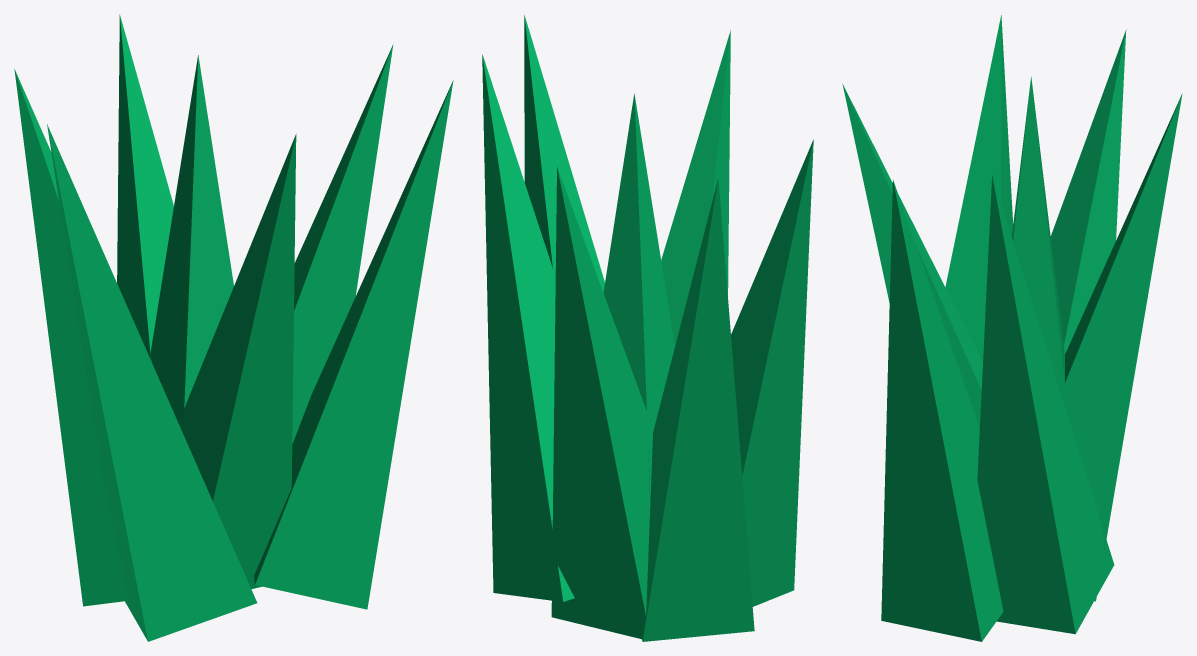
The model's file is GrassBundle.fbx.
3 views of the same model, side by side, from view 1: azimuth 30°, elevation 25°; view 2: azimuth 150°, elevation 25°; view 3: azimuth 270°, elevation 25° (orthographic). The views are drawn at different scales.
Parts seen in each view (by area): view 1: Cube.014; view 2: Cube.014; view 3: Cube.014.
Boxes of the visible parts, x1,y1,x2,y2 form: Cube.014: (14, 14, 453, 641); Cube.014: (482, 15, 813, 641); Cube.014: (842, 15, 1182, 641).
Size of the model in its own units: 1.19 by 1.68 by 1.03.
